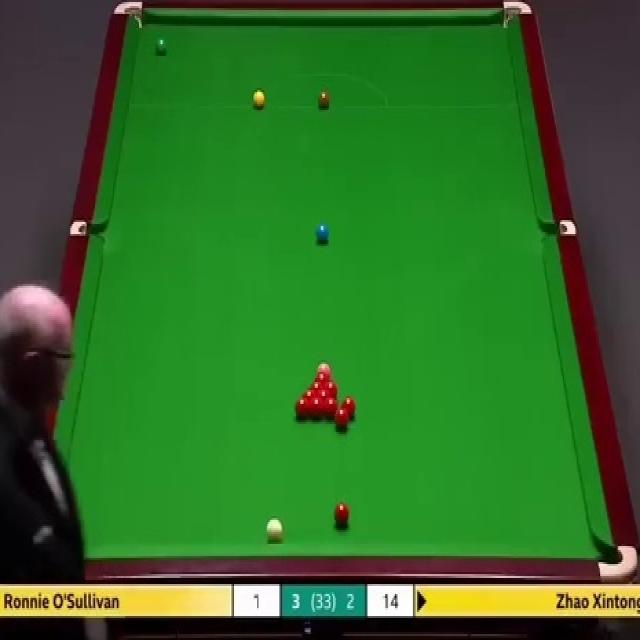pocket: (597, 540, 639, 582), (110, 1, 143, 30), (503, 1, 534, 30), (69, 219, 103, 239), (543, 221, 577, 240)
